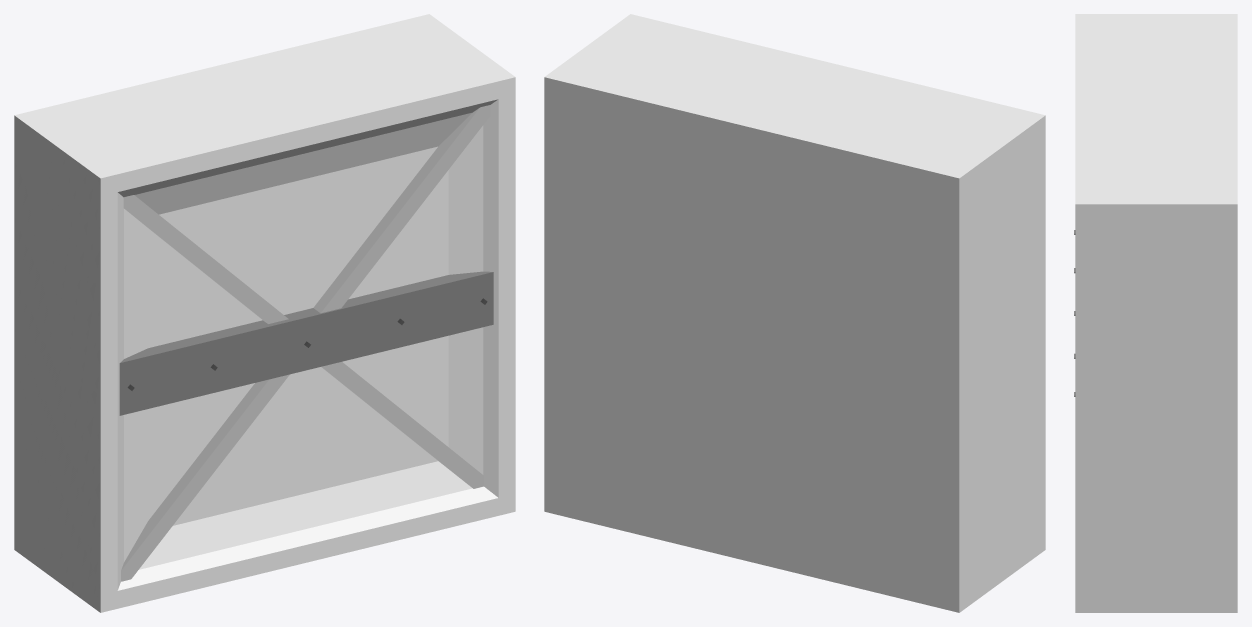
Rendered from Wall.fbx.
3 renders of one model, left to right at view 1: azimuth 30°, elevation 25°; view 2: azimuth 150°, elevation 25°; view 3: azimuth 270°, elevation 25°, orthographic. The views are drawn at different scales.
Visible parts, largest first — view 1: Wall4x4; view 2: Wall4x4; view 3: Wall4x4.
Part boxes in pixels (bbox=[...]): Wall4x4: bbox=[14, 14, 515, 612]; Wall4x4: bbox=[544, 14, 1045, 612]; Wall4x4: bbox=[1074, 14, 1237, 612].
Size of the model in its own units: 400 by 400 by 145.
